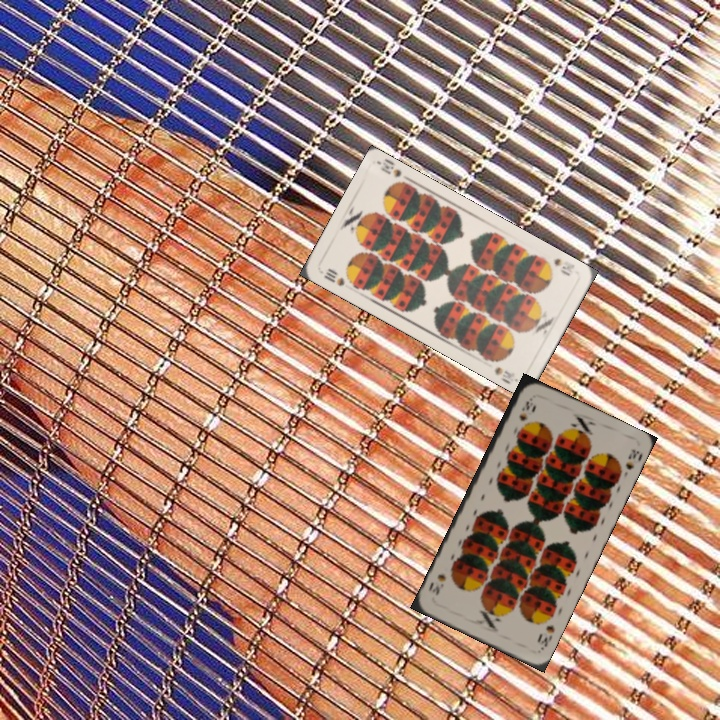S10: (540, 254, 577, 279), (533, 621, 557, 653), (320, 264, 347, 289), (515, 394, 535, 424)
